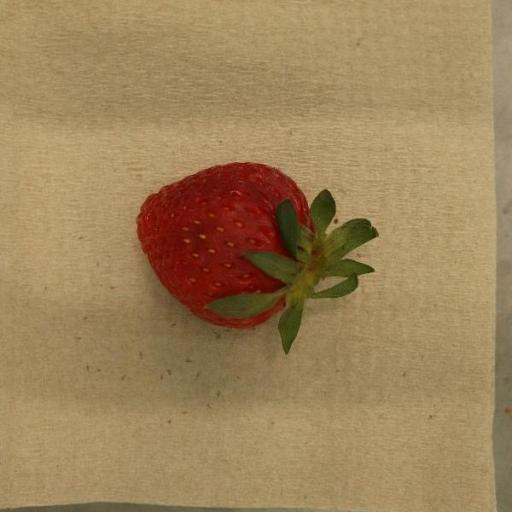Strawberry: (137, 163, 380, 355)
